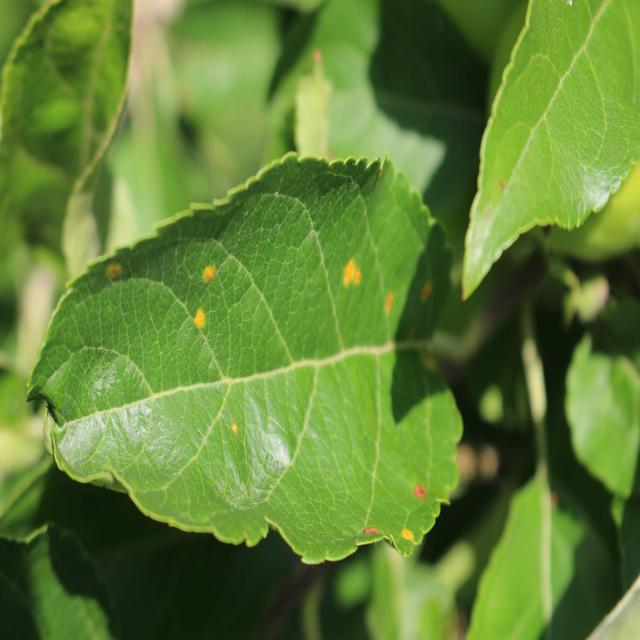Rust: (396, 464, 441, 514), (333, 246, 370, 294), (412, 266, 438, 316), (349, 510, 387, 543), (186, 303, 221, 338), (220, 410, 246, 449), (375, 289, 404, 322), (193, 254, 220, 288), (398, 510, 418, 555), (100, 258, 126, 283)
